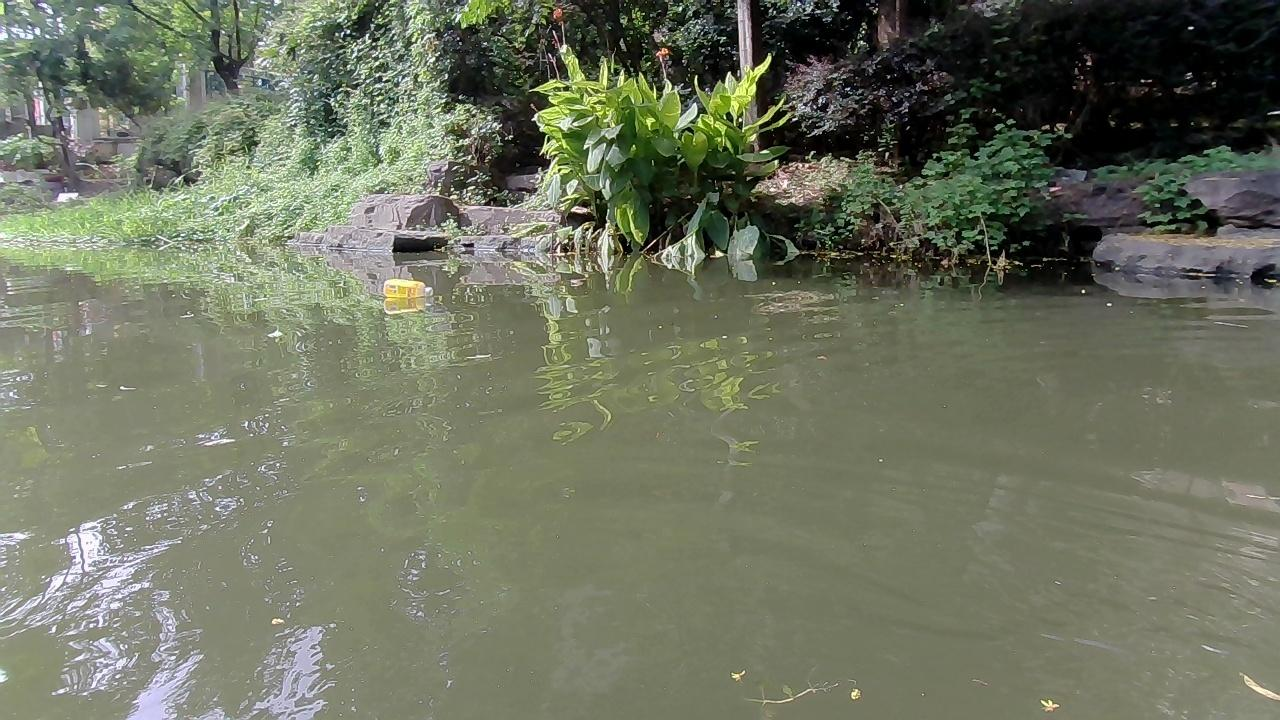bottle: (381, 277, 435, 303)
